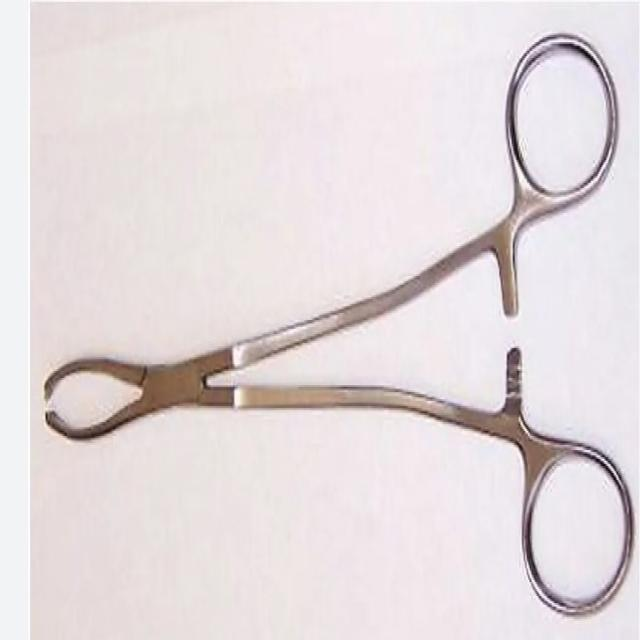Babcock Forceps: (44, 21, 636, 624)
